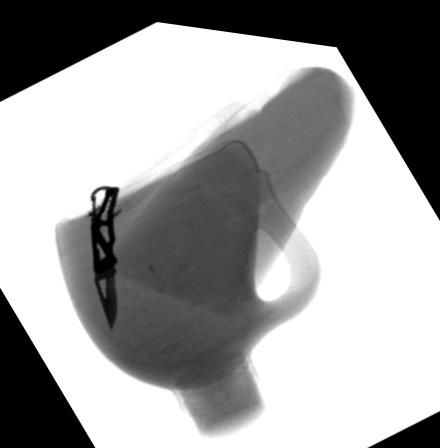Knife: (88, 180, 120, 328)
